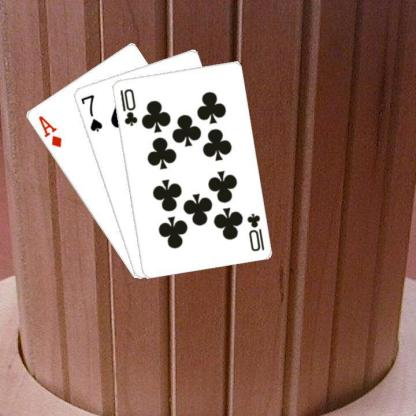10C: (245, 210, 266, 252), (117, 86, 138, 127)
7S: (78, 92, 104, 133)
AD: (35, 113, 63, 149)
